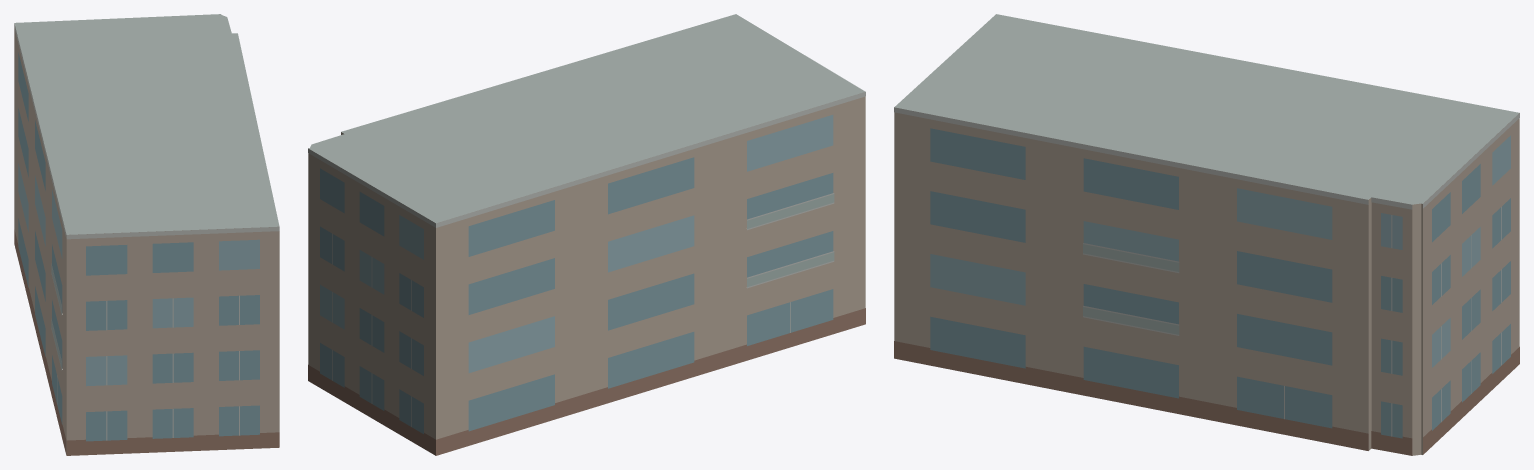
Rendered from survey-upis-32997216.glb.
3 renders of one model, left to right at view 1: azimuth 30°, elevation 25°; view 2: azimuth 150°, elevation 25°; view 3: azimuth 270°, elevation 25°, orthographic. The views are drawn at different scales.
Visible parts, largest first — view 1: survey-upis-32997216.tmp; view 2: survey-upis-32997216.tmp; view 3: survey-upis-32997216.tmp.
Boxes of the visible parts, bbox=[...] form: survey-upis-32997216.tmp: bbox=[14, 14, 279, 455]; survey-upis-32997216.tmp: bbox=[308, 14, 865, 455]; survey-upis-32997216.tmp: bbox=[894, 14, 1519, 455].
Bounding box in the file's own units: 19.87 × 12.2 × 27.54.
